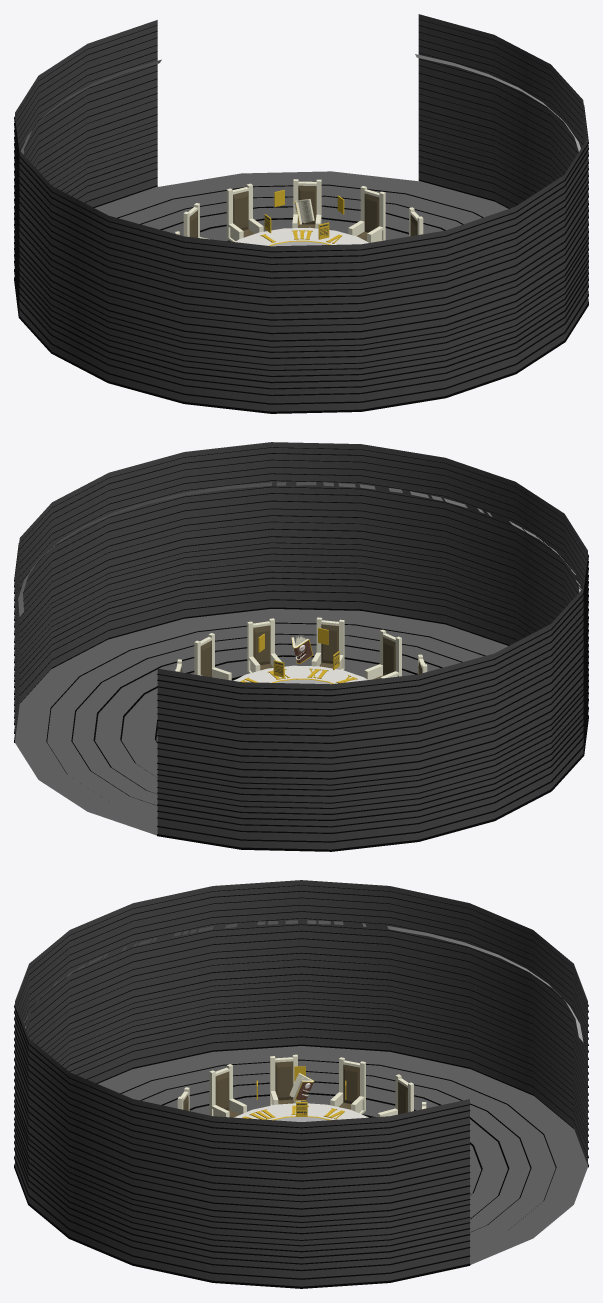
Rendered from UURoundtable.fbx.
3 renders of one model, top to bottom at view 1: azimuth 30°, elevation 25°; view 2: azimuth 150°, elevation 25°; view 3: azimuth 270°, elevation 25°, orthographic.
Parts seen in each view (by area): view 1: Wall_Floor, UnionChair:RoundtableChair01, UnionChair9:RoundtableChair01, Roundtable1:Arc, UnionChair10:RoundtableChair01, RoundLights, UnionChair1:RoundtableChair01; view 2: Wall_Floor, RoundLights, UnionChair7:RoundtableChair01, Roundtable1:Arc, UnionChair6:RoundtableChair01, UnionChair5:RoundtableChair01, UnionChair8:RoundtableChair01; view 3: Wall_Floor, UnionChair2:RoundtableChair01, RoundLights, UnionChair4:RoundtableChair01, UnionChair3:RoundtableChair01, Roundtable1:Arc, UnionChair1:RoundtableChair01.
Part boxes in pixels (x1,y1,x2,y2): Wall_Floor: [14, 14, 588, 413]; UnionChair:RoundtableChair01: [226, 183, 263, 241]; UnionChair9:RoundtableChair01: [348, 186, 385, 242]; Roundtable1:Arc: [235, 227, 368, 245]; UnionChair10:RoundtableChair01: [292, 179, 321, 228]; RoundLights: [21, 54, 580, 154]; UnionChair1:RoundtableChair01: [183, 203, 209, 239]; Wall_Floor: [14, 442, 588, 851]; RoundLights: [18, 481, 581, 616]; UnionChair7:RoundtableChair01: [247, 618, 281, 673]; Roundtable1:Arc: [233, 665, 367, 683]; UnionChair6:RoundtableChair01: [311, 617, 344, 670]; UnionChair5:RoundtableChair01: [364, 629, 401, 679]; UnionChair8:RoundtableChair01: [194, 633, 231, 680]; Wall_Floor: [14, 880, 588, 1288]; UnionChair2:RoundtableChair01: [330, 1057, 365, 1114]; RoundLights: [23, 920, 583, 1042]; UnionChair4:RoundtableChair01: [209, 1064, 246, 1117]; UnionChair3:RoundtableChair01: [270, 1054, 300, 1105]; Roundtable1:Arc: [234, 1103, 368, 1119]; UnionChair1:RoundtableChair01: [377, 1074, 413, 1116].
Bounding box in the file's own units: 71.42 × 23.89 × 71.42.
Materials: 3 (1 with a texture image).
